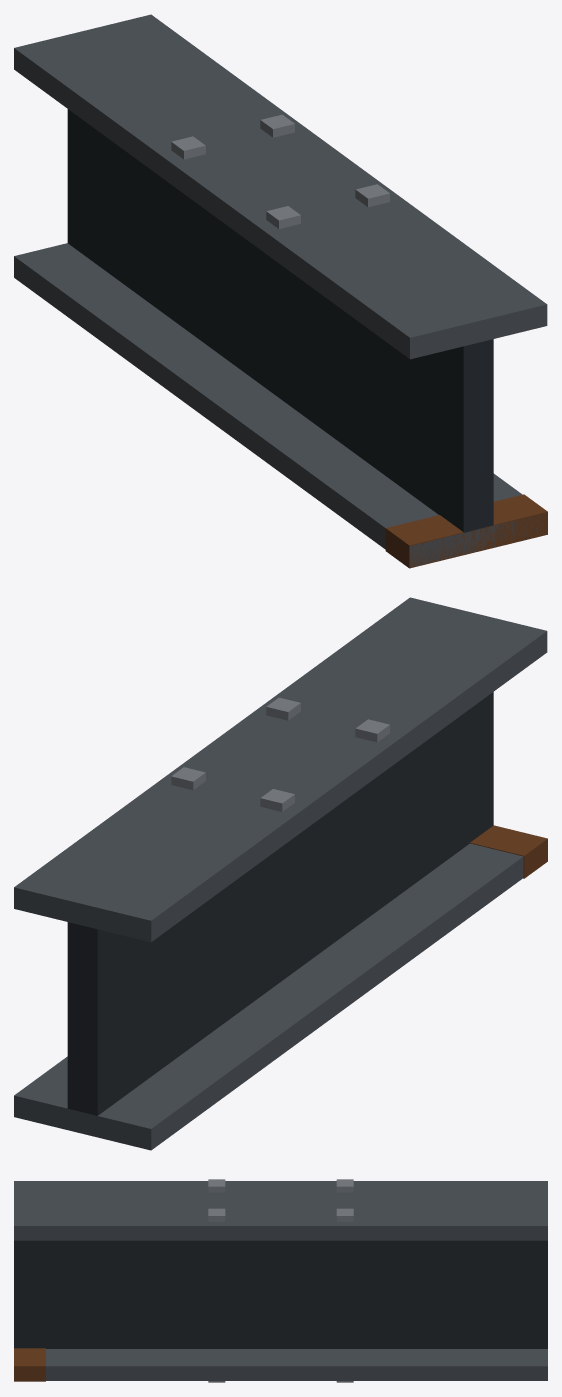
File: bunker-rib.glb
3 views of the same model, one above another, from view 1: azimuth 30°, elevation 25°; view 2: azimuth 150°, elevation 25°; view 3: azimuth 270°, elevation 25° (orthographic). The views are drawn at different scales.
Parts seen in each view (by area): view 1: bunker-rib; view 2: bunker-rib; view 3: bunker-rib.
Part boxes in pixels (x1,y1,x2,y2): bunker-rib: (14,14,547,568); bunker-rib: (14,597,547,1150); bunker-rib: (14,1179,547,1382).
Size of the model in its own units: 0.202 by 0.344 by 1.
